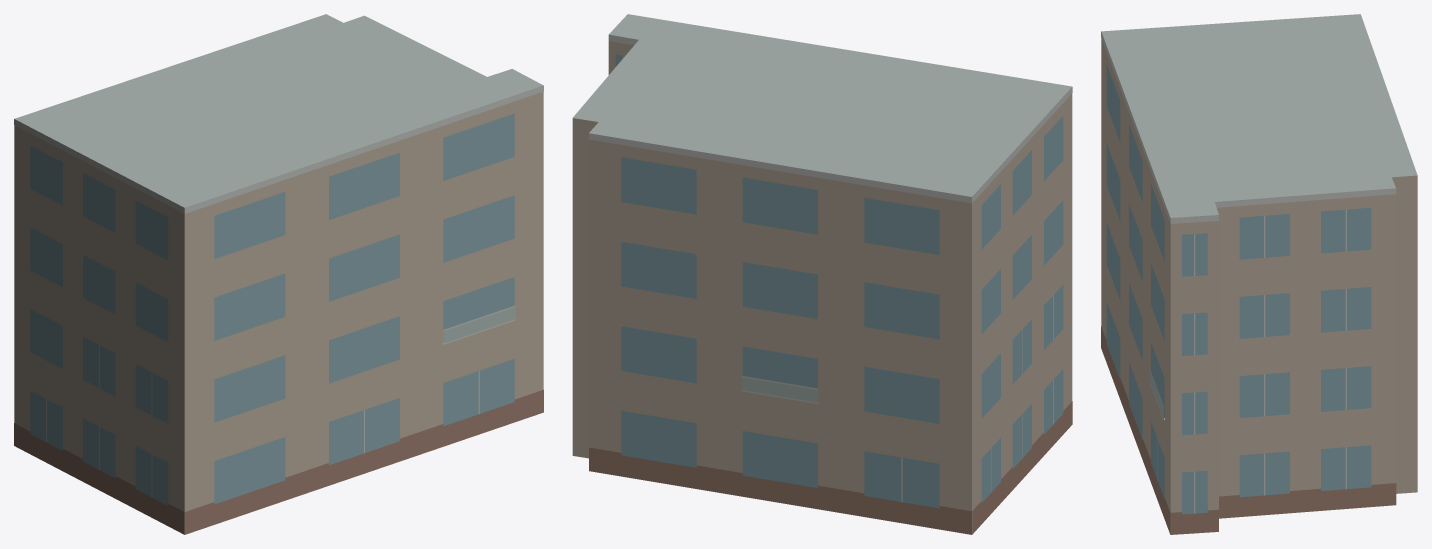
The model's file is survey-upis-32748701.glb.
The picture shows the model from 3 angles, left to right: view 1: azimuth 30°, elevation 25°; view 2: azimuth 150°, elevation 25°; view 3: azimuth 270°, elevation 25°; orthographic projection. The views are drawn at different scales.
Visible parts, largest first — view 1: survey-upis-32748701.tmp; view 2: survey-upis-32748701.tmp; view 3: survey-upis-32748701.tmp.
Boxes of the visible parts, x1,y1,x2,y2 form: survey-upis-32748701.tmp: (14,14,543,534); survey-upis-32748701.tmp: (572,14,1072,534); survey-upis-32748701.tmp: (1101,14,1417,534).
Bounding box in the file's own units: 17.96 × 13 × 11.78.
